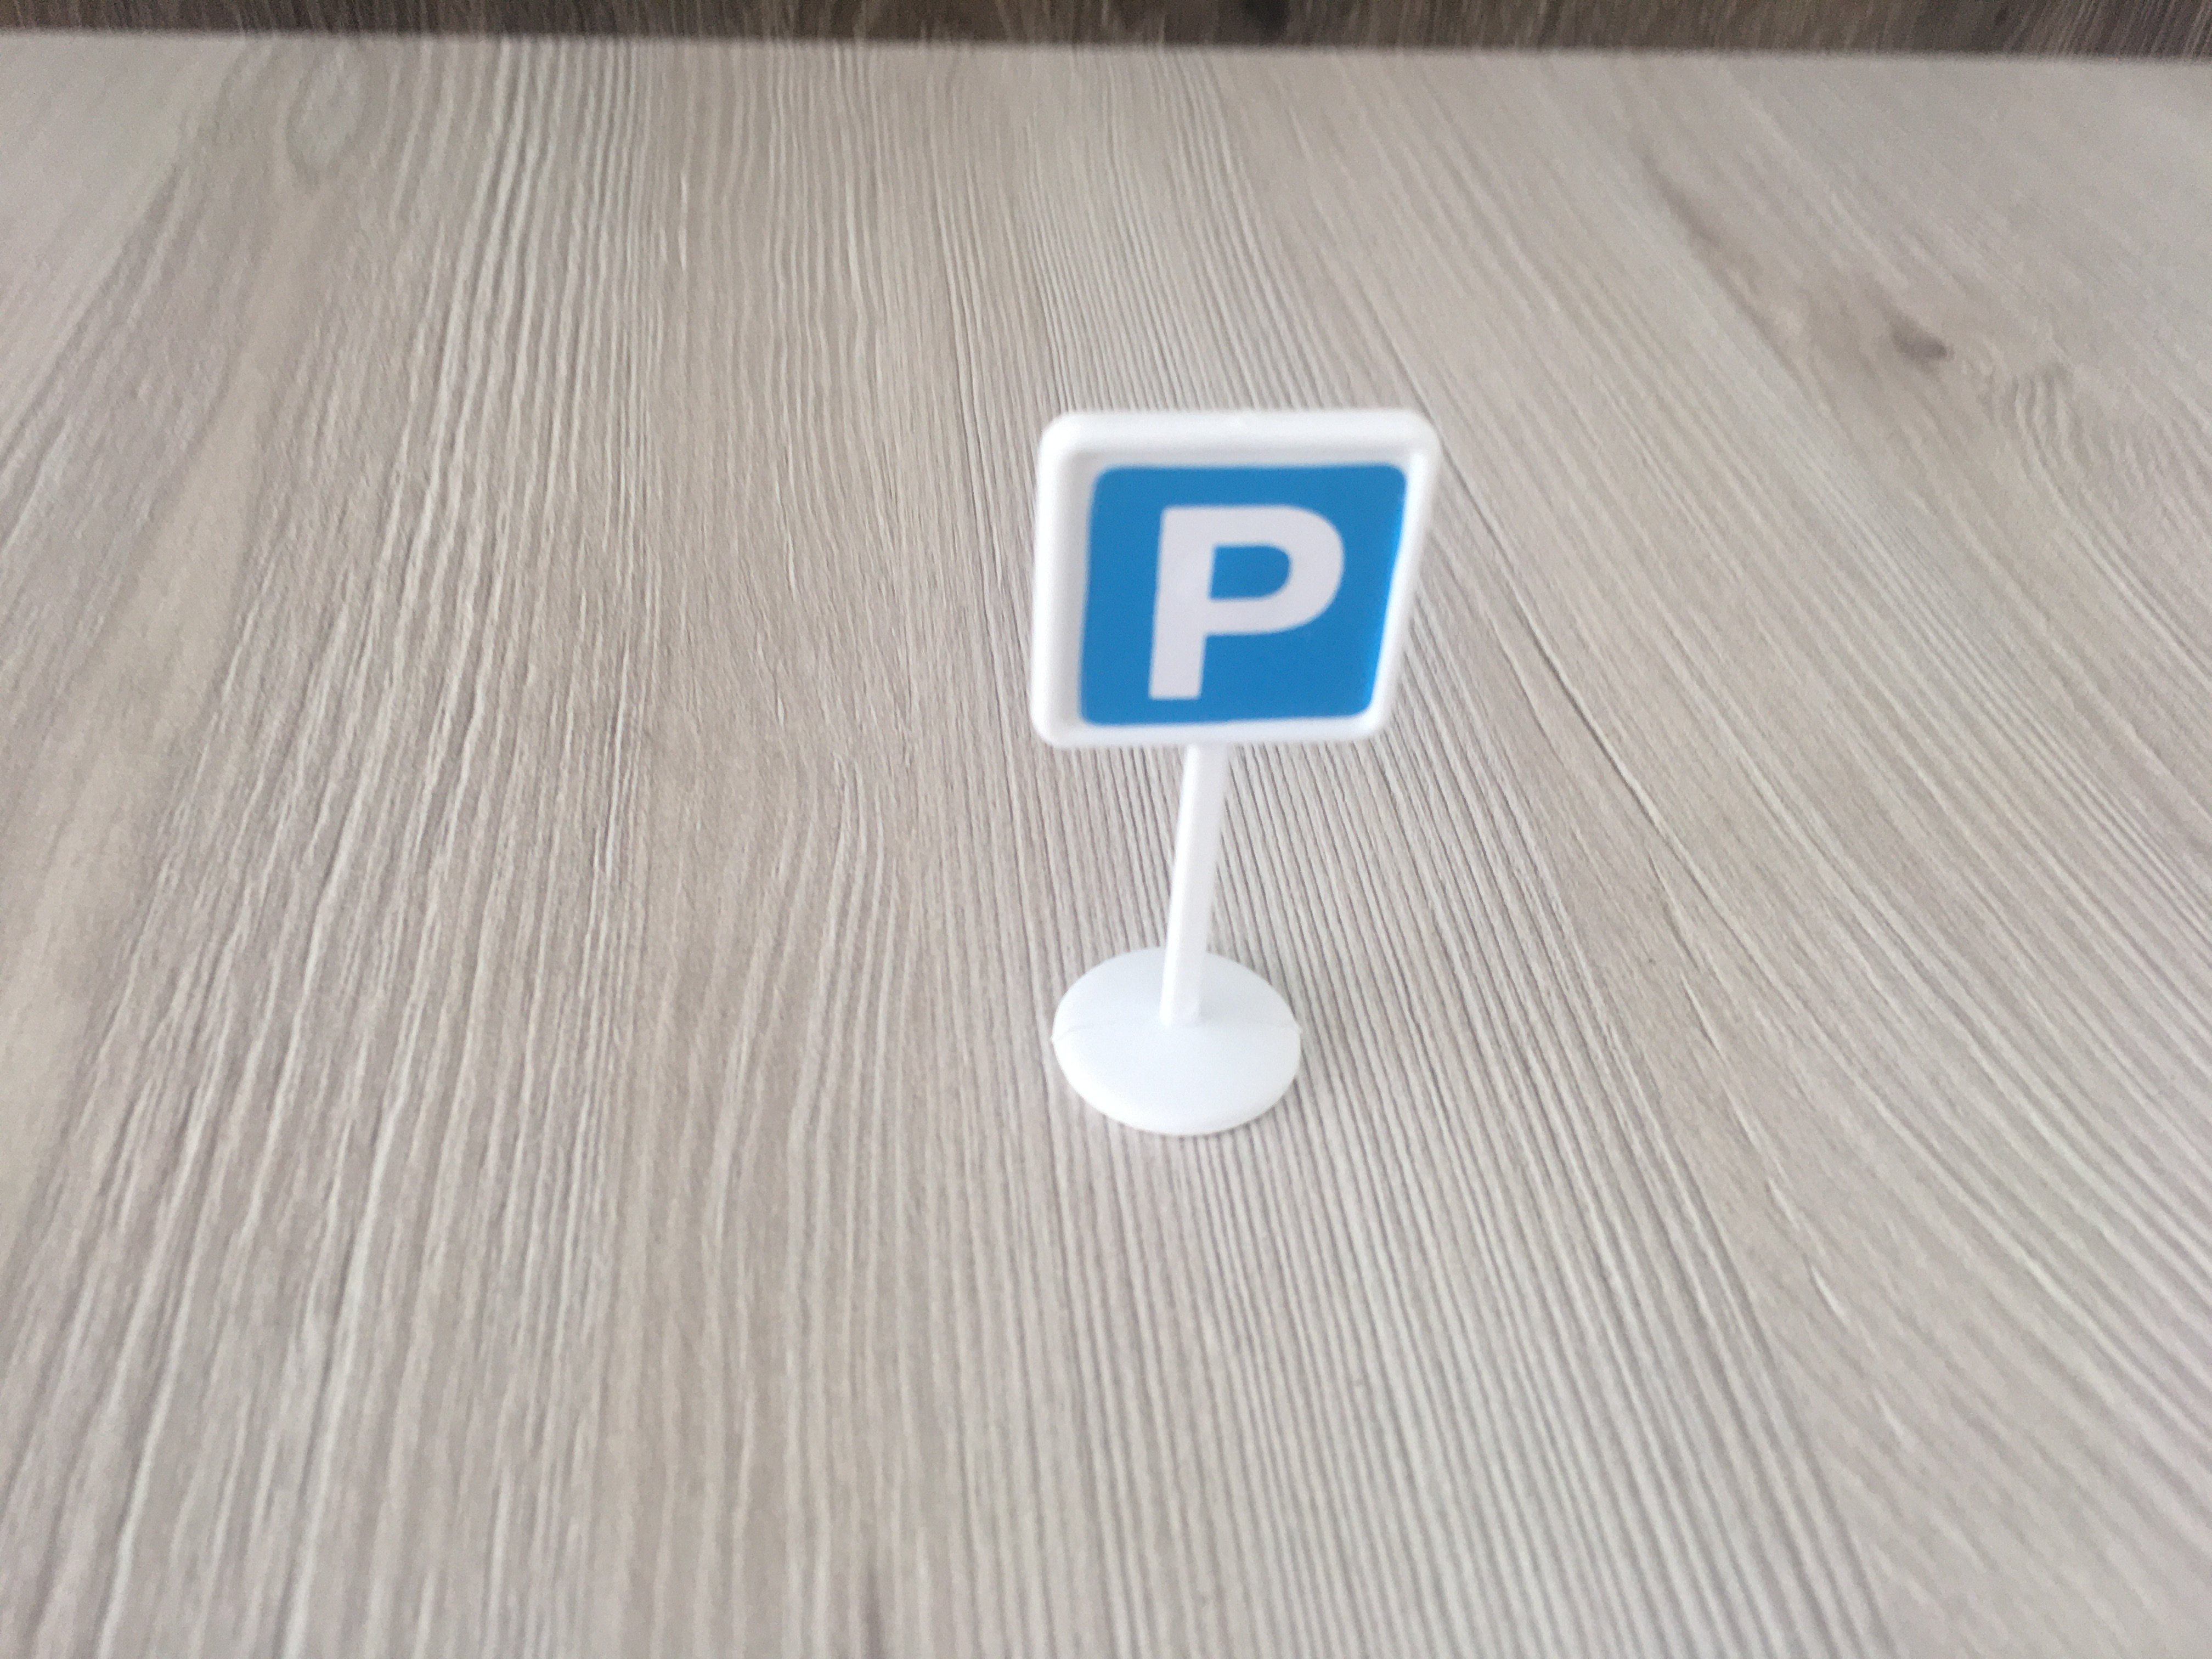parking: (1047, 423, 1400, 742)
